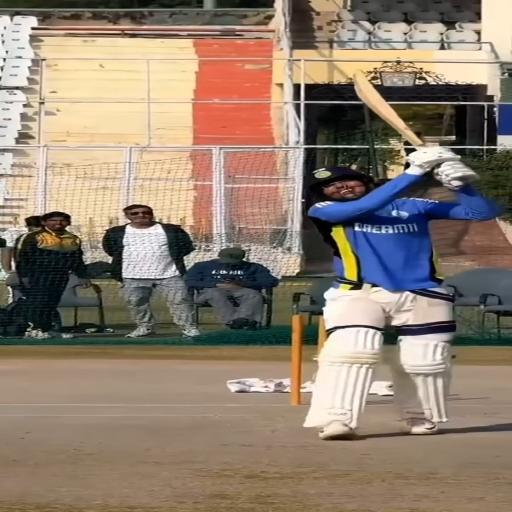Cricket bat: (354, 71, 424, 147)
